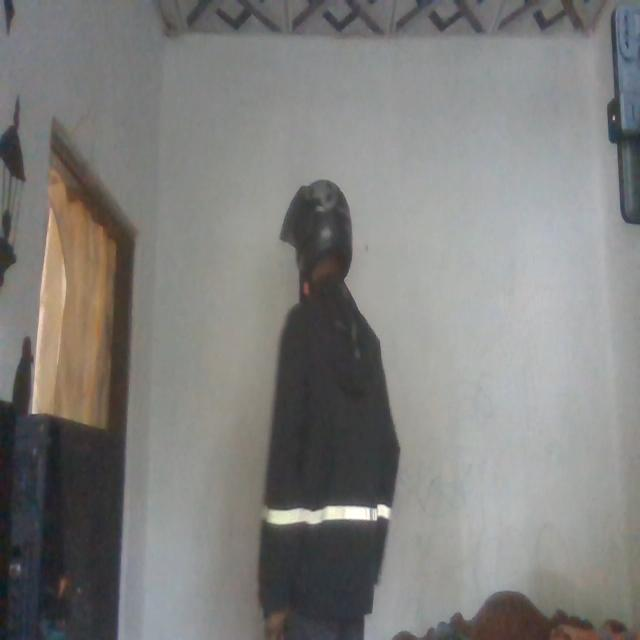Helmet_Wearer: (272, 186, 358, 311)
Jacket_Wearer: (258, 292, 398, 640)
Person: (256, 170, 401, 640)
